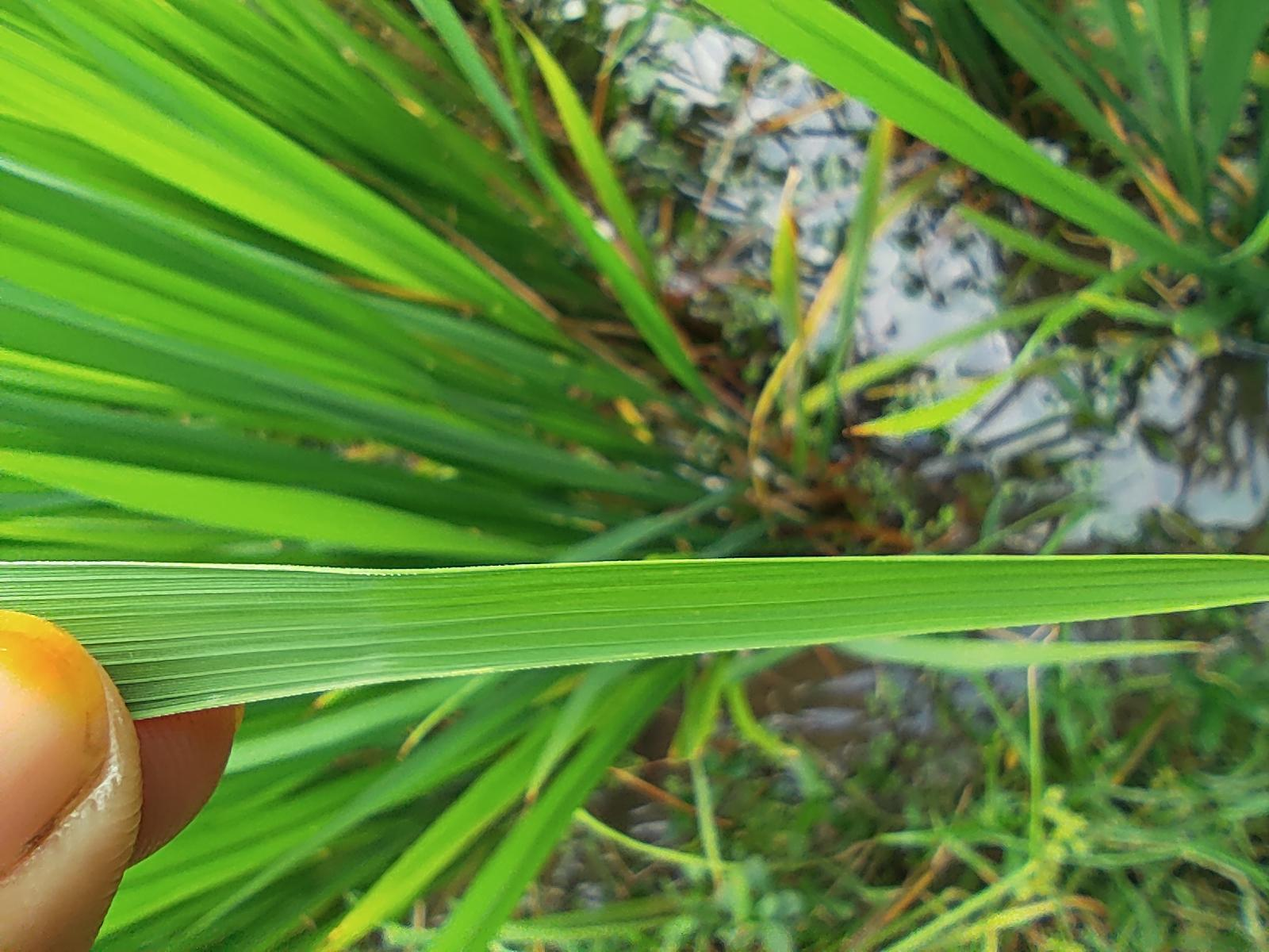Healthy: (314, 0, 527, 951)
